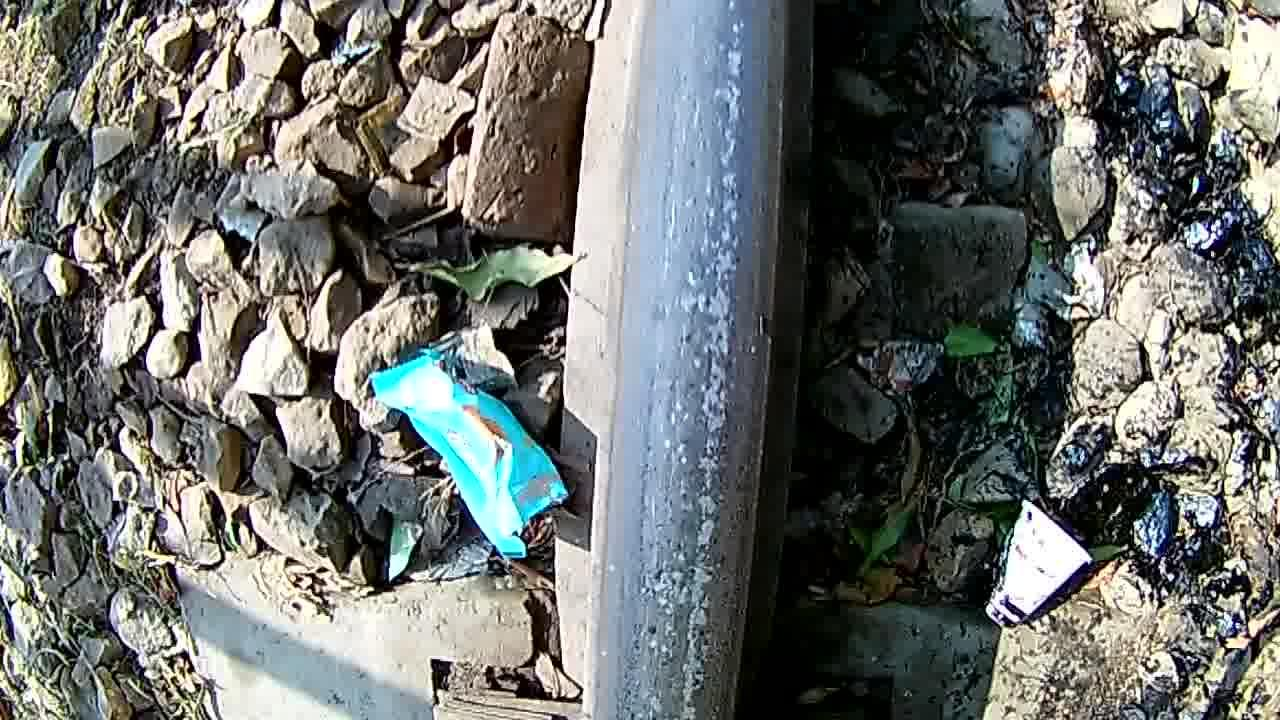clip_missing: (596, 0, 790, 720)
